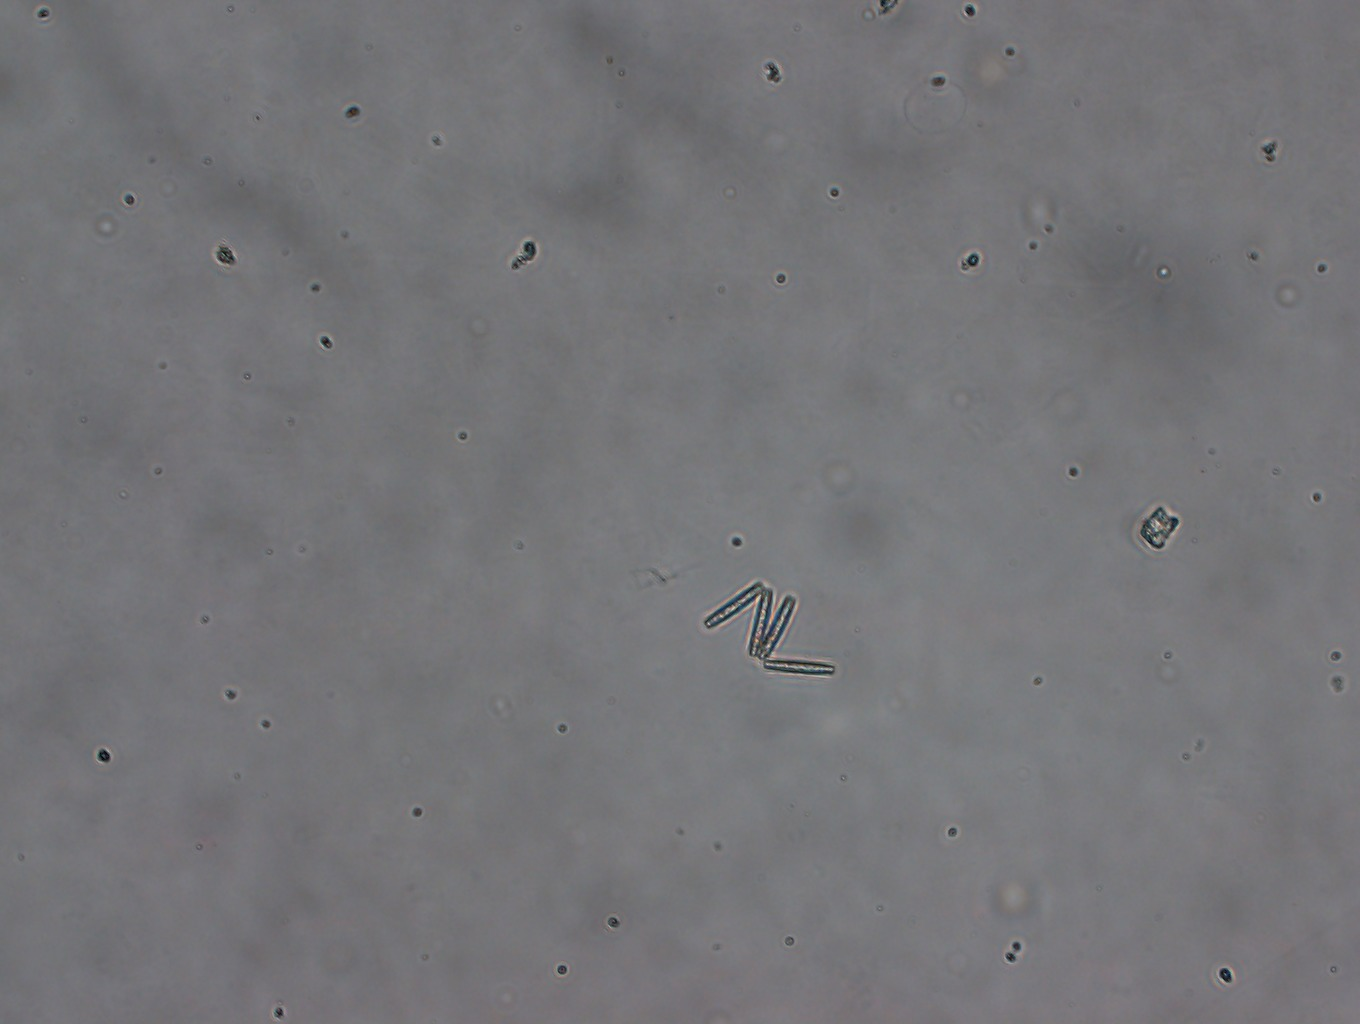thalassionema nitzschioides: (702, 577, 839, 679)
